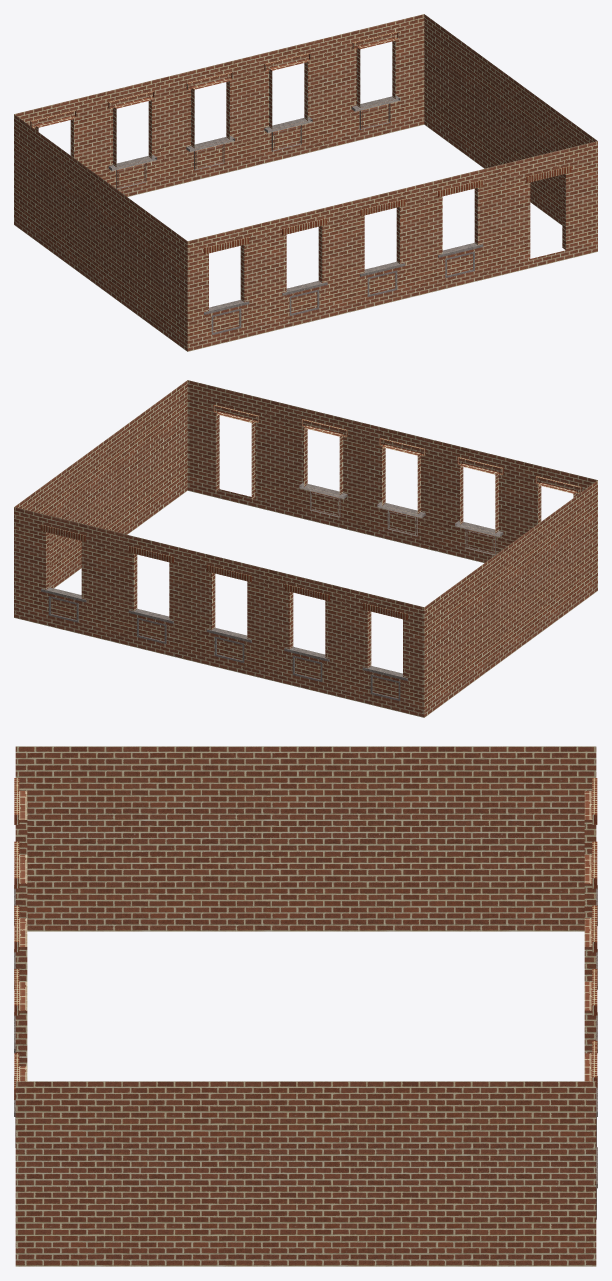
Rendered from BUILDING_groundFloor_01.FBX.
3 renders of one model, top to bottom at view 1: azimuth 30°, elevation 25°; view 2: azimuth 150°, elevation 25°; view 3: azimuth 270°, elevation 25°, orthographic. The views are drawn at different scales.
Parts seen in each view (by area): view 1: BUILDING_groundFloor_01; view 2: BUILDING_groundFloor_01; view 3: BUILDING_groundFloor_01.
Part boxes in pixels (x1=…): BUILDING_groundFloor_01: x1=14, y1=14, x2=597, y2=351; BUILDING_groundFloor_01: x1=14, y1=380, x2=597, y2=717; BUILDING_groundFloor_01: x1=14, y1=746, x2=597, y2=1266.
Size of the model in its own units: 1916 by 494 by 1412.
3 materials, 3 textured.
